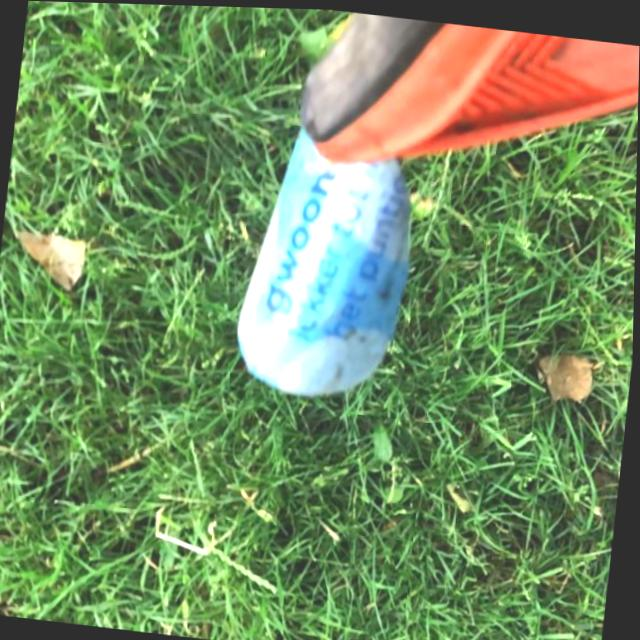Paper: (229, 108, 424, 410)
